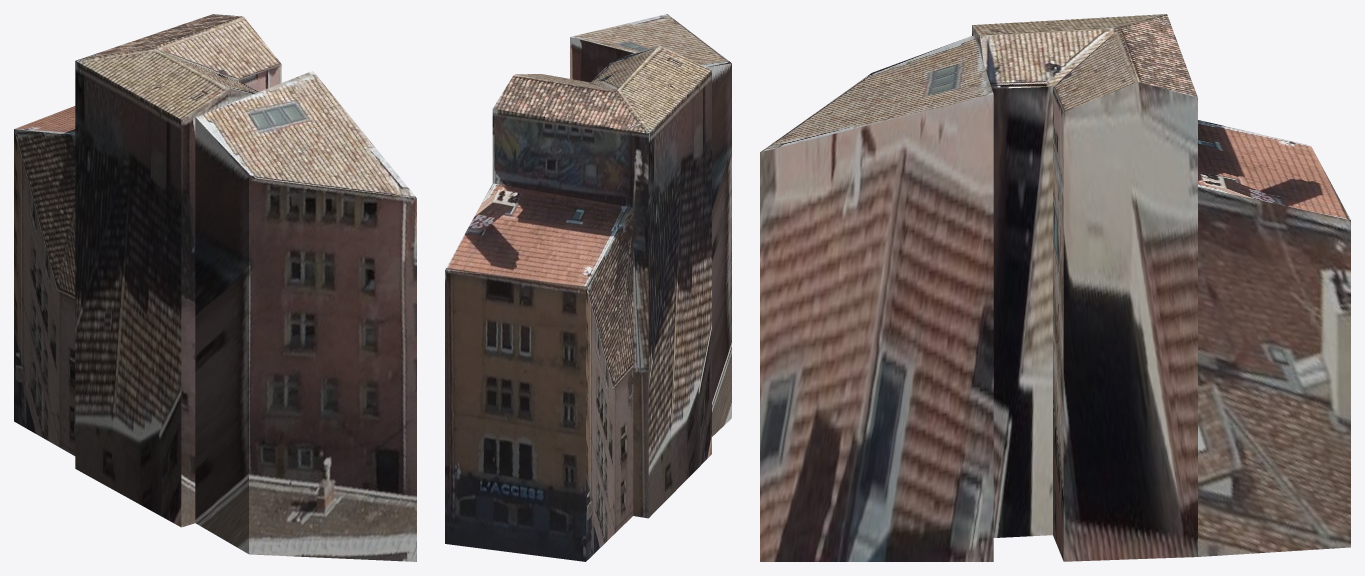
The picture shows the model from 3 angles, left to right: view 1: azimuth 30°, elevation 25°; view 2: azimuth 150°, elevation 25°; view 3: azimuth 270°, elevation 25°; orthographic projection. The views are drawn at different scales.
Visible parts, largest first — view 1: Z_UP; view 2: Z_UP; view 3: Z_UP.
Part boxes in pixels (x1,y1,x2,y2): Z_UP: [14, 14, 416, 561]; Z_UP: [445, 14, 731, 561]; Z_UP: [760, 14, 1350, 561].
Size of the model in its own units: 9.14 by 23.02 by 25.84.
2 materials, 1 textured.
